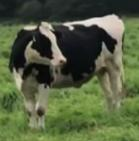cow: (8, 14, 125, 129)
